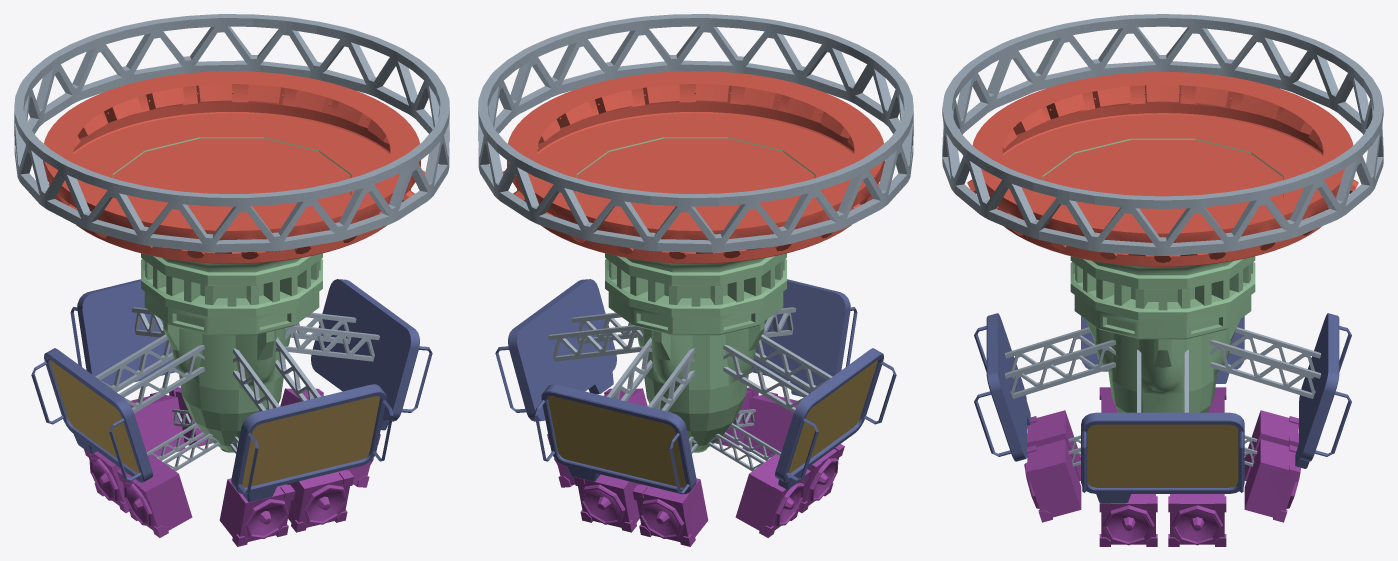
Rendered from hanger texture.fbx.
3 views of the same model, side by side, from view 1: azimuth 30°, elevation 25°; view 2: azimuth 150°, elevation 25°; view 3: azimuth 270°, elevation 25° (orthographic).
Parts seen in each view (by area): view 1: ring_light, ring_Steel_frame, dome1, rocket, monitor1Shape3, pPlane16, monitor1Shape, monitor1Shape2, monitor1Shape1, speakerShape4, pPlane15, speakerShape7 (+9 smaller); view 2: ring_light, ring_Steel_frame, dome1, monitor1Shape3, rocket, pPlane14, monitor1Shape2, monitor1Shape, monitor1Shape1, speakerShape2, pPlane15, speakerShape5 (+9 smaller); view 3: ring_light, ring_Steel_frame, dome1, pPlane17, rocket, monitor1Shape, monitor1Shape3, monitor1Shape2, speakerShape6, speakerShape3, Steel_frame_main3, Steel_frame_main (+7 smaller).
Part boxes in pixels (bbox=[...]): ring_light: bbox=[43, 71, 425, 263]; ring_Steel_frame: bbox=[14, 14, 449, 252]; dome1: bbox=[112, 137, 351, 335]; rocket: bbox=[163, 321, 290, 452]; monitor1Shape3: bbox=[311, 279, 432, 430]; pPlane16: bbox=[242, 396, 379, 487]; monitor1Shape: bbox=[70, 279, 177, 385]; monitor1Shape2: bbox=[231, 384, 393, 502]; monitor1Shape1: bbox=[31, 348, 152, 482]; speakerShape4: bbox=[117, 454, 192, 537]; pPlane15: bbox=[50, 360, 139, 473]; speakerShape7: bbox=[219, 478, 295, 546]; ring_light: bbox=[502, 71, 884, 263]; ring_Steel_frame: bbox=[478, 14, 913, 252]; dome1: bbox=[576, 137, 815, 335]; monitor1Shape3: bbox=[495, 279, 616, 421]; rocket: bbox=[637, 321, 764, 452]; pPlane14: bbox=[548, 396, 685, 487]; monitor1Shape2: bbox=[750, 279, 857, 396]; monitor1Shape: bbox=[534, 384, 696, 494]; monitor1Shape1: bbox=[775, 348, 896, 489]; speakerShape2: bbox=[632, 478, 708, 546]; pPlane15: bbox=[788, 360, 877, 473]; speakerShape5: bbox=[735, 454, 810, 537]; ring_light: bbox=[967, 72, 1358, 266]; ring_Steel_frame: bbox=[942, 14, 1383, 255]; dome1: bbox=[1042, 138, 1283, 339]; pPlane17: bbox=[1087, 424, 1238, 487]; rocket: bbox=[1085, 319, 1240, 412]; monitor1Shape: bbox=[1295, 313, 1351, 468]; monitor1Shape3: bbox=[1081, 412, 1244, 503]; monitor1Shape2: bbox=[974, 313, 1030, 461]; speakerShape6: bbox=[1024, 439, 1081, 522]; speakerShape3: bbox=[1244, 439, 1300, 522]; Steel_frame_main3: bbox=[1210, 327, 1320, 398]; Steel_frame_main: bbox=[1005, 327, 1115, 398].
Size of the model in its own units: 27.44 by 26.68 by 27.44.
